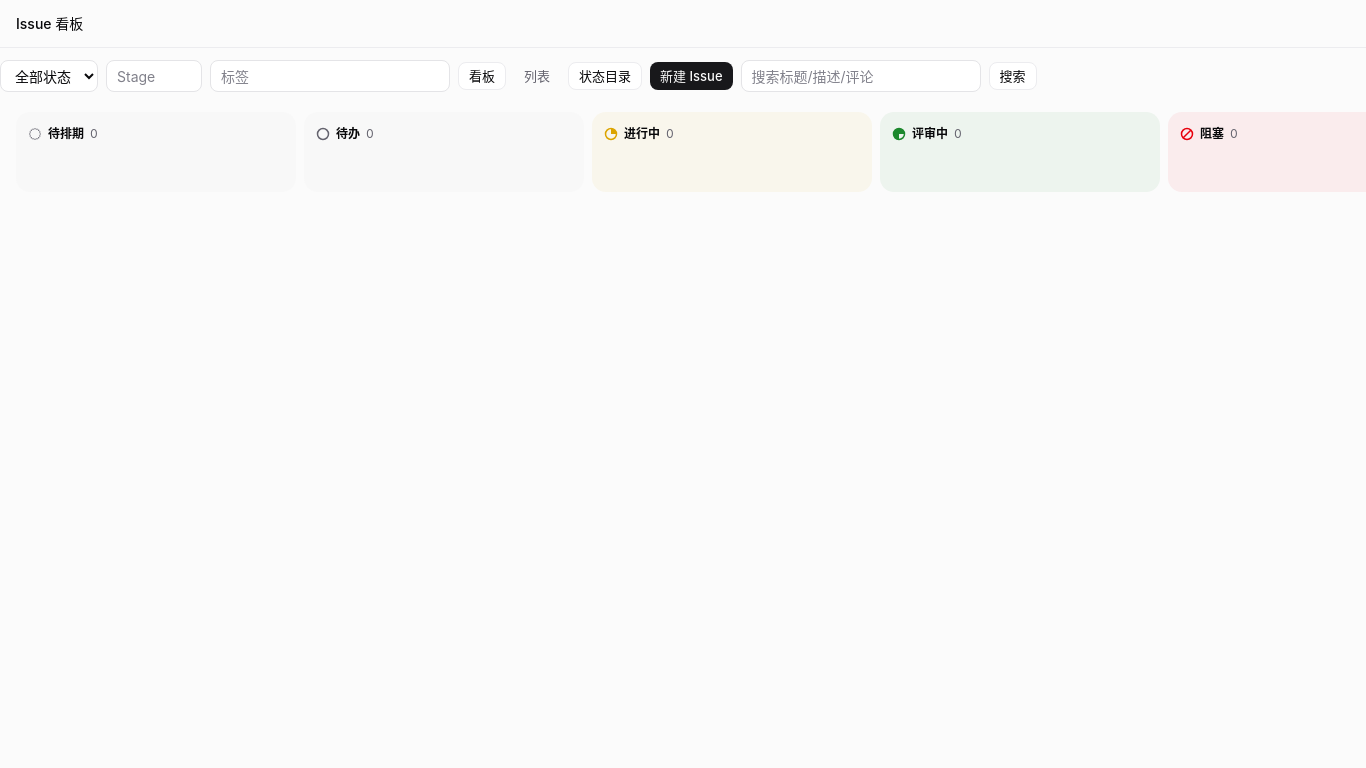
Test case: BoardPage › deletes a status through the directory manager and drops its column
expect the element with test id "column-blocked" is shown: met, box left=1168, top=112, right=1365, bottom=192
Click the button with test id "toggle-statuses": click(605, 76) left=568, top=62, right=642, bottom=90
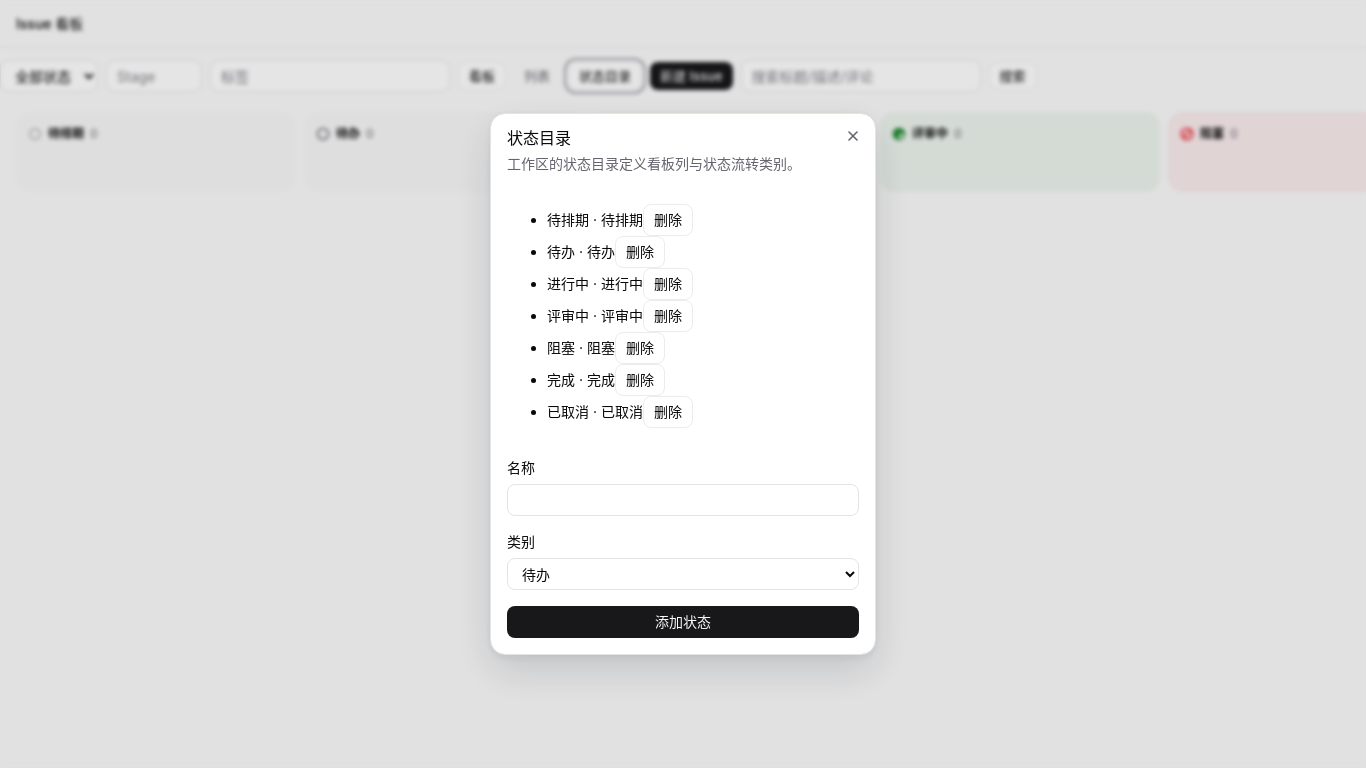
Click the button with test id "dir-delete-blocked": click(640, 348) left=615, top=332, right=665, bottom=364
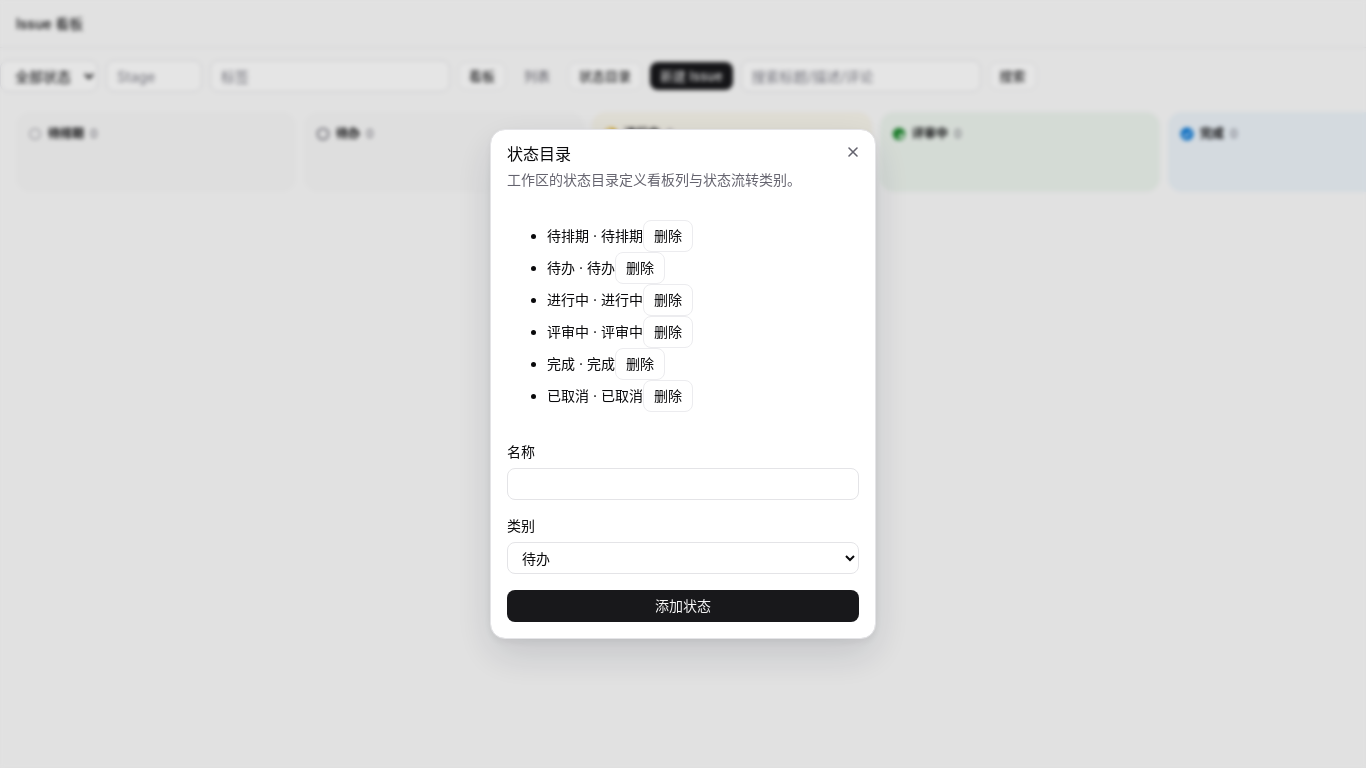
expect the element with test id "column-blocked" is gone: met
